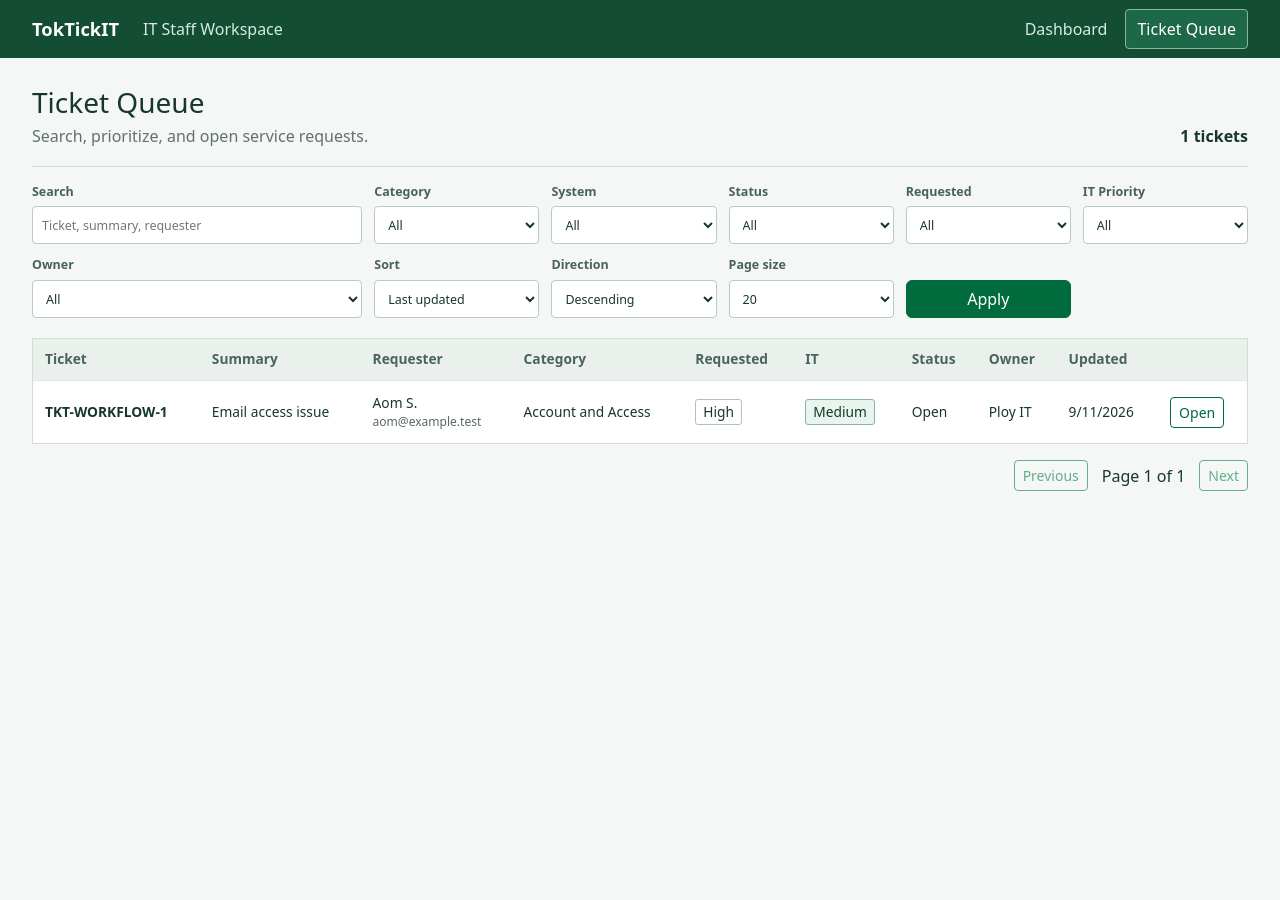
Scenario: Lab 4 Ticket workflow UI › shows only permitted transitions and hides forbidden workflow options
What coordinates should you click on to do the following:
click the button with aria-label "Open TKT-WORKFLOW-1"
I would click on:
 (1197, 412)
Its box is [1170, 396, 1224, 428].
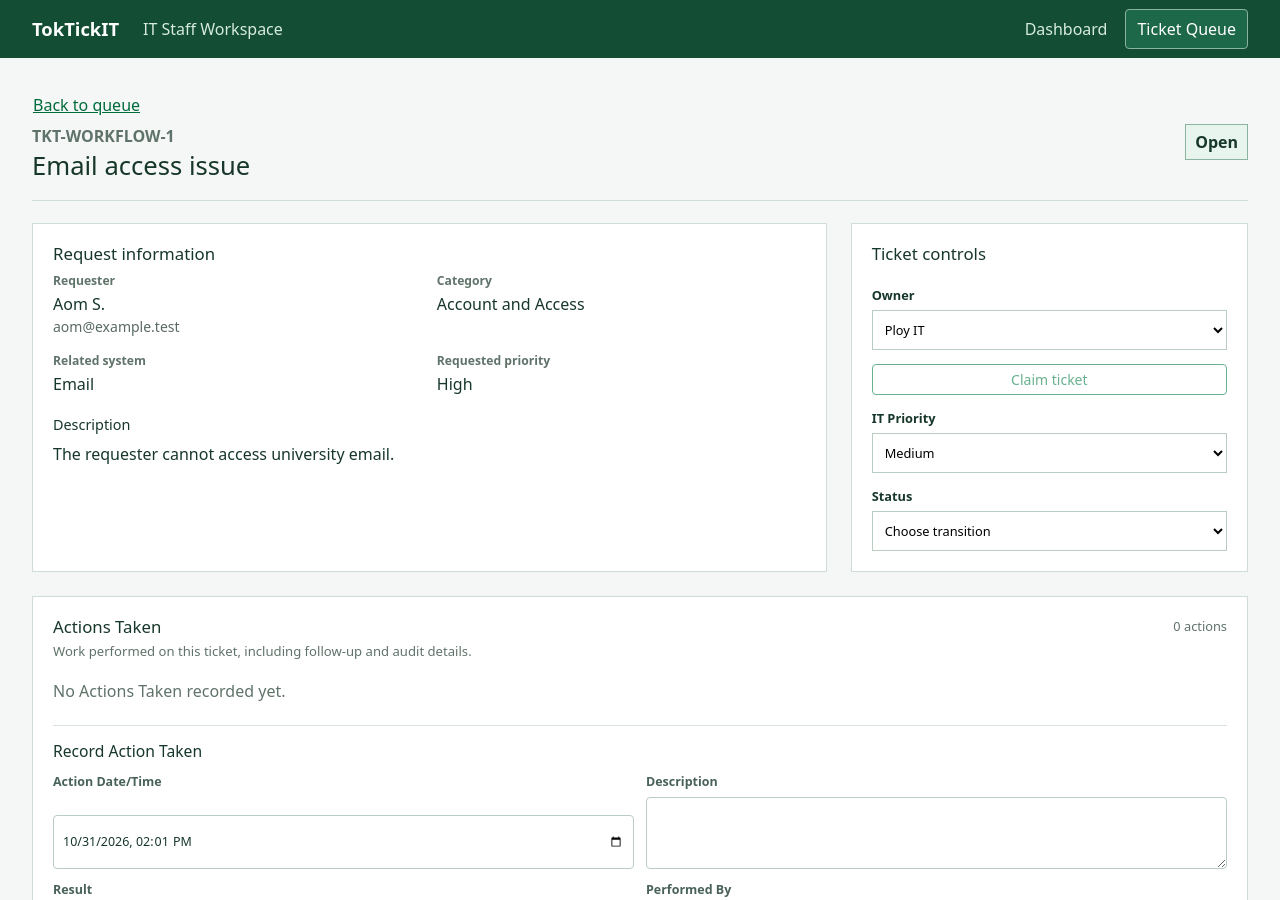
expect the heading "Email access issue" is shown: met, box [32, 151, 250, 182]
